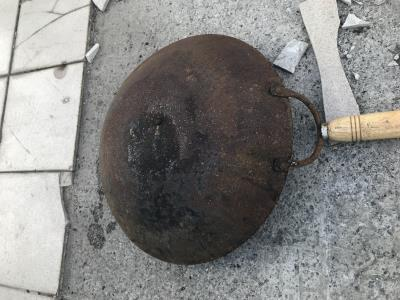bowl: (94, 31, 297, 268)
